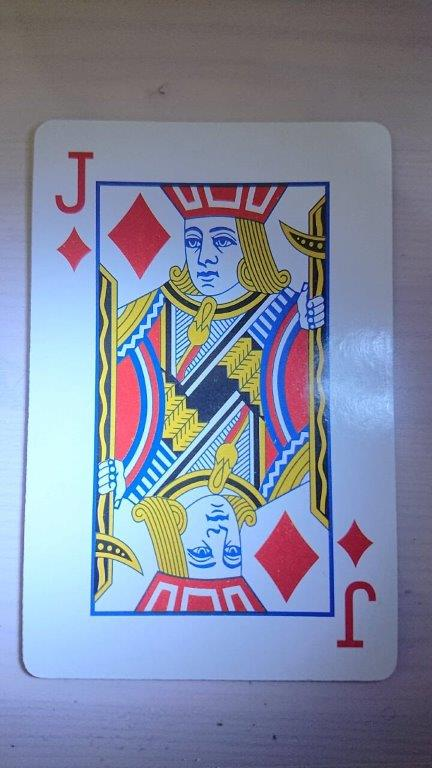JD: (20, 116, 399, 684)
